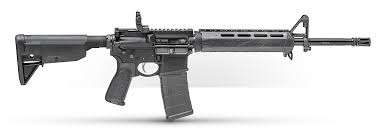gun: (15, 9, 372, 121)
